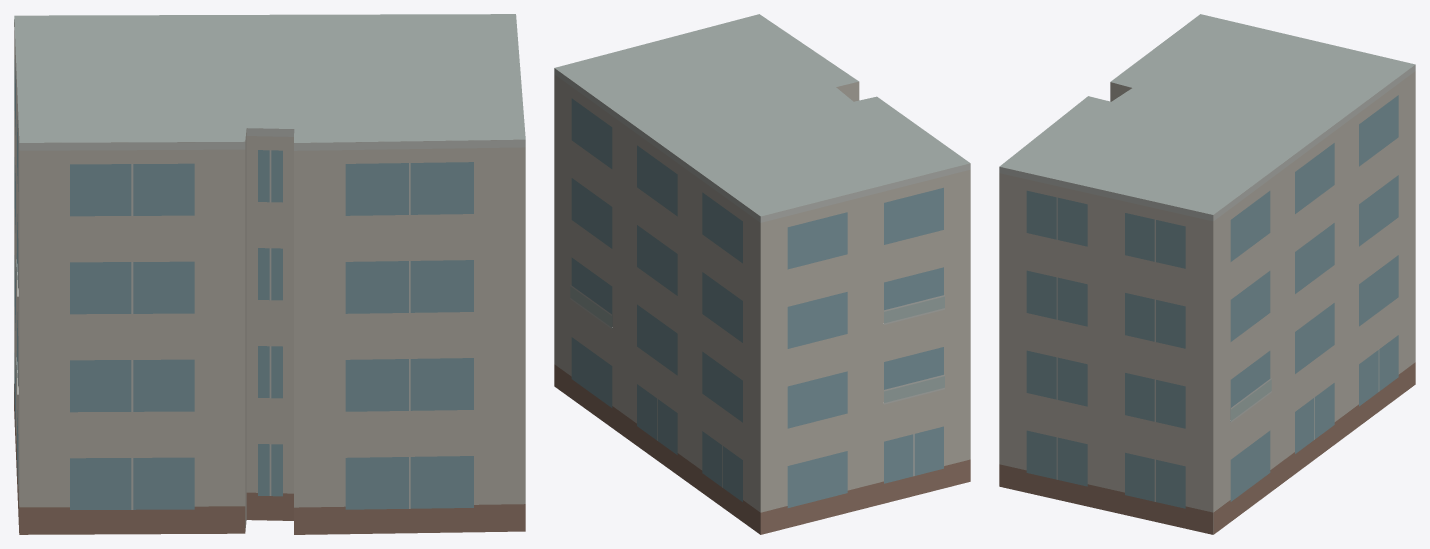
Rendered from survey-upis-32739441.glb.
3 renders of one model, left to right at view 1: azimuth 30°, elevation 25°; view 2: azimuth 150°, elevation 25°; view 3: azimuth 270°, elevation 25°, orthographic. The views are drawn at different scales.
Parts seen in each view (by area): view 1: survey-upis-32739441.tmp; view 2: survey-upis-32739441.tmp; view 3: survey-upis-32739441.tmp.
Boxes of the visible parts, x1,y1,x2,y2 form: survey-upis-32739441.tmp: (14,14,525,534); survey-upis-32739441.tmp: (554,14,970,534); survey-upis-32739441.tmp: (999,14,1415,534).
Bounding box in the file's own units: 16.45 × 12.2 × 14.4.
